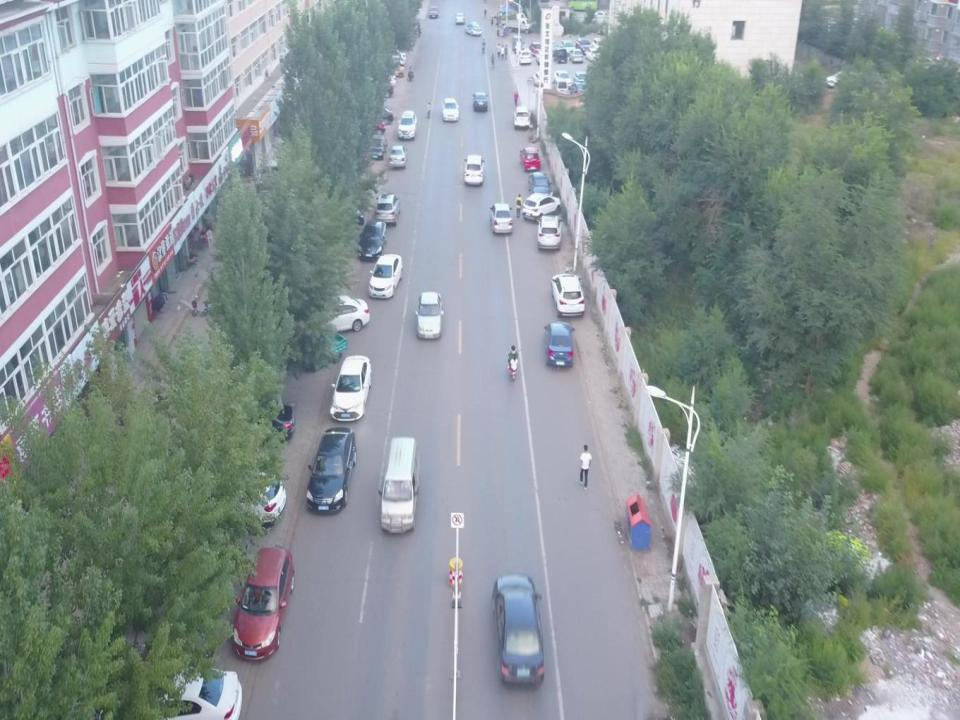bus: (565, 0, 599, 11)
car: (102, 666, 243, 720), (234, 546, 292, 662), (492, 574, 545, 683), (201, 468, 286, 523), (303, 426, 356, 512), (226, 398, 295, 442), (330, 354, 370, 422), (302, 296, 370, 328), (370, 253, 402, 297), (552, 273, 585, 314), (415, 292, 442, 339), (545, 321, 571, 368), (520, 190, 562, 219), (355, 220, 386, 259), (329, 206, 366, 229), (538, 214, 560, 250), (374, 193, 400, 222), (361, 101, 394, 123), (490, 202, 512, 232), (464, 156, 484, 186), (375, 45, 406, 64), (366, 69, 395, 89), (357, 115, 386, 134), (366, 80, 394, 98), (520, 147, 542, 168), (530, 172, 550, 195), (369, 133, 385, 161), (389, 144, 407, 168), (571, 80, 594, 98), (573, 68, 597, 84), (441, 98, 458, 120), (552, 77, 570, 96), (515, 105, 530, 127), (532, 72, 554, 86), (472, 91, 487, 111), (594, 8, 612, 24), (534, 50, 551, 66), (592, 36, 612, 49), (532, 40, 546, 56), (464, 22, 482, 34), (569, 47, 584, 61), (518, 48, 532, 62), (430, 6, 438, 18), (456, 14, 464, 26)
truck: (502, 12, 533, 33)
van: (380, 436, 416, 531), (398, 110, 416, 140), (561, 38, 577, 55), (576, 35, 592, 52), (550, 49, 567, 64), (585, 47, 600, 62), (554, 68, 568, 84)
